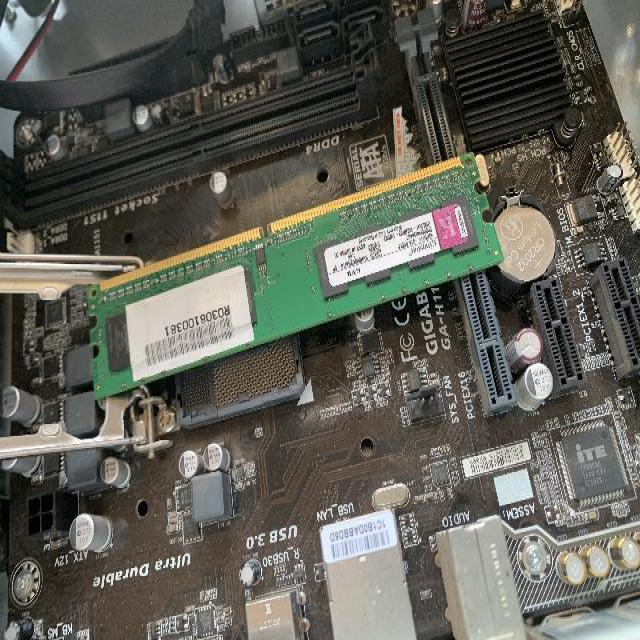Mainboard: (1, 33, 640, 636)
RAM: (87, 151, 503, 398)
